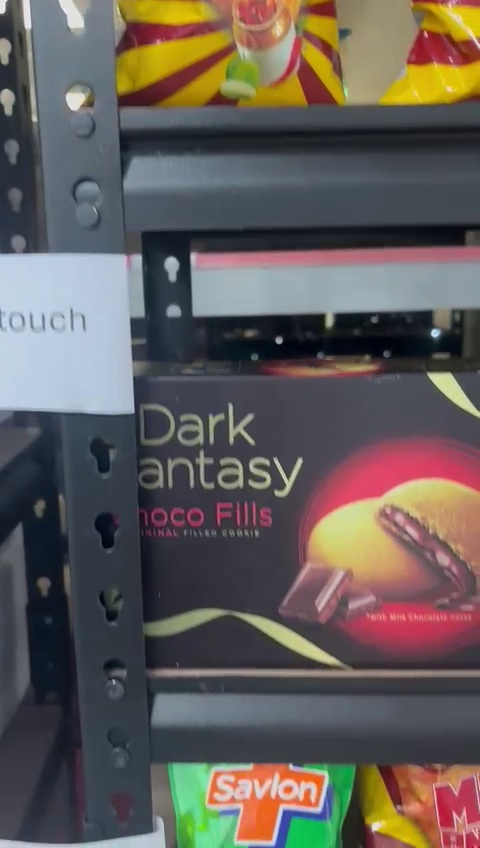Dark Fantasy: (139, 355, 480, 679)
